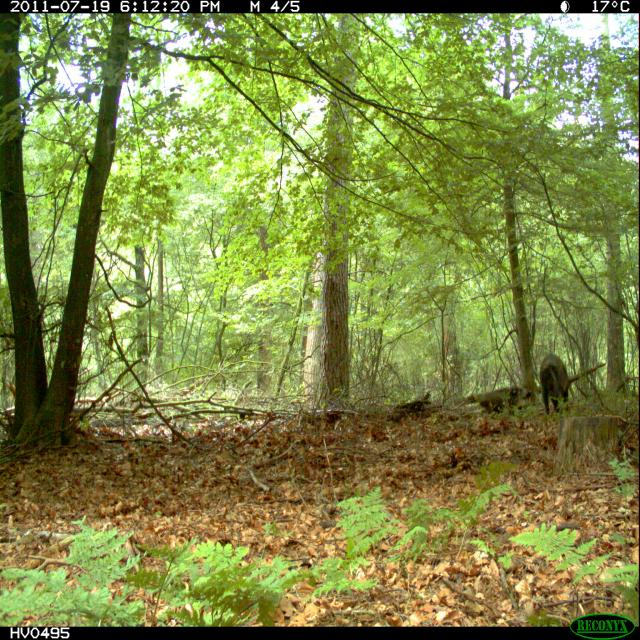boar: (536, 348, 580, 424)
